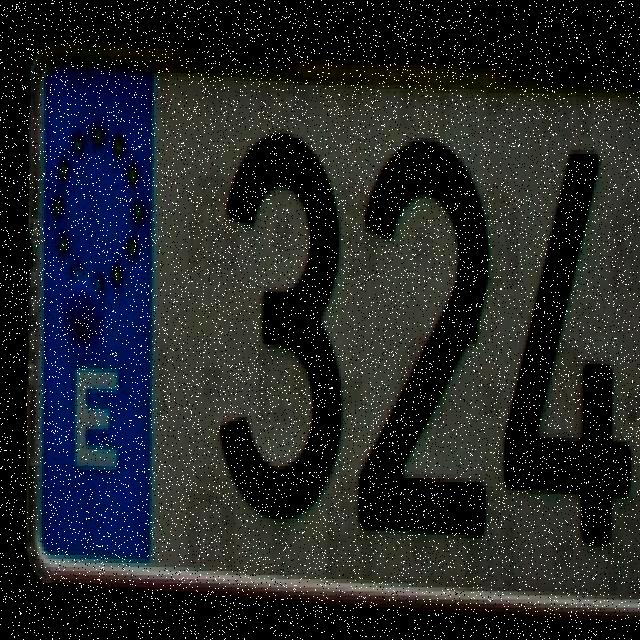licenseplate: (13, 21, 638, 616)
